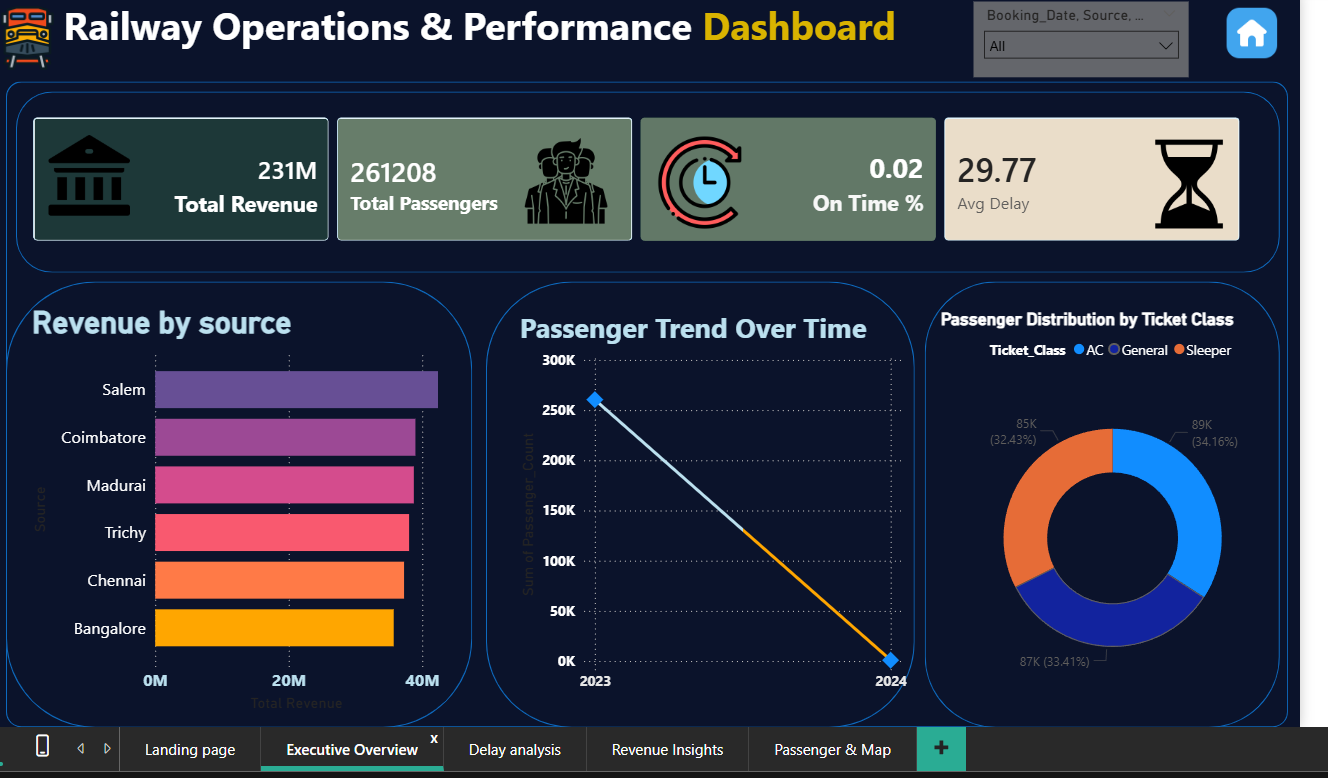

This screenshot's page, from the dashboard's own definition file:
{"tool":"powerbi","page":{"name":"Executive Overview","canvas":[1280,720],"ordinal":1},"visuals":[{"type":"shape","box":[131.3,341.1,598.8,193.9],"z":0},{"type":"shape","box":[19.6,104.3,366.9,177.9],"z":1000},{"type":"image","box":[0,0,61.7,86.4],"z":2000},{"type":"textbox","box":[61.7,0,916.6,63.1],"z":3000},{"type":"shape","box":[9.6,86.4,1258.3,634],"z":4000},{"type":"shape","box":[19.6,95.7,1240.5,177.9],"z":5000},{"type":"shape","box":[51.5,135,93.3,94.5],"z":6000},{"type":"image","box":[19.6,131.3,165.6,62.6],"z":7000},{"type":"cardVisual","fields":{"Data":["Measure_Table.Total Revenue","Measure_Table.Total Passengers","Measure_Table.On Time %","Measure_Table.Avg Delay"]},"box":[19.6,104.3,1219.6,155.8],"z":8000},{"type":"image","box":[509.2,138.7,100.6,88.3],"z":9000},{"type":"shape","box":[9.8,282.2,457.7,438],"z":10000},{"type":"image","box":[51.5,128.8,79.8,98.2],"z":11000},{"type":"image","box":[640.5,139.9,100.6,90.8],"z":12000},{"type":"image","box":[1127.6,135,87.1,103.1],"z":13000},{"type":"clusteredBarChart","title":"Revenue by source","fields":{"Category":["railways.Source"],"Y":["Measure_Table.Total Revenue"]},"box":[30.2,304.6,425.4,404.8],"z":14000},{"type":"shape","box":[481,282.2,420.9,438],"z":15000},{"type":"lineChart","title":"Passenger Trend Over Time","fields":{"Category":["railways.Booking_Date.Variation.Date Hierarchy.Year","railways.Booking_Date.Variation.Date Hierarchy.Quarter","railways.Booking_Date.Variation.Date Hierarchy.Month","railways.Booking_Date.Variation.Date Hierarchy.Day"],"Y":["Sum(railways.Passenger_Count)"]},"box":[509.2,309.2,390.2,385.3],"z":16000},{"type":"shape","box":[911.7,282.2,348.5,438],"z":17000},{"type":"donutChart","title":"Passenger Distribution by Ticket Class","fields":{"Category":["railways.Ticket_Class"],"Y":["Sum(railways.Passenger_Count)"]},"box":[922.1,308.7,347.2,400.7],"z":18000},{"type":"slicer","fields":{"Values":["railways.Booking_Date","railways.Source","railways.Ticket_Class"]},"box":[959.2,6.9,211.3,74.1],"z":19000},{"type":"image","box":[1197.9,13.7,70,49.4],"z":20000}]}

Visuals, with their boxes on the page's 1280x720 design canvas (x1, y1, x2, y2). These are canvas units, not pixel positions in the 1328x778 screenshot, which may show the page scaled, cropped or inside an application window:
shape: <box>131,341,730,535</box>
shape: <box>20,104,386,282</box>
image: <box>0,0,62,86</box>
textbox: <box>62,0,978,63</box>
shape: <box>10,86,1268,720</box>
shape: <box>20,96,1260,274</box>
shape: <box>52,135,145,230</box>
image: <box>20,131,185,194</box>
cardVisual - Measure_Table.Total Revenue x Measure_Table.Total Passengers: <box>20,104,1239,260</box>
image: <box>509,139,610,227</box>
shape: <box>10,282,468,720</box>
image: <box>52,129,131,227</box>
image: <box>640,140,741,231</box>
image: <box>1128,135,1215,238</box>
"Revenue by source" clusteredBarChart: <box>30,305,456,709</box>
shape: <box>481,282,902,720</box>
"Passenger Trend Over Time" lineChart: <box>509,309,899,694</box>
shape: <box>912,282,1260,720</box>
"Passenger Distribution by Ticket Class" donutChart: <box>922,309,1269,709</box>
slicer - railways.Booking_Date x railways.Source: <box>959,7,1170,81</box>
image: <box>1198,14,1268,63</box>
